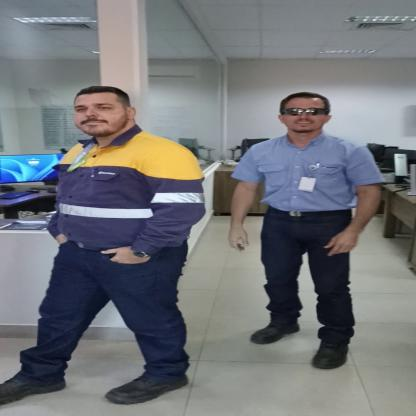Operacional: (46, 135, 218, 258)
